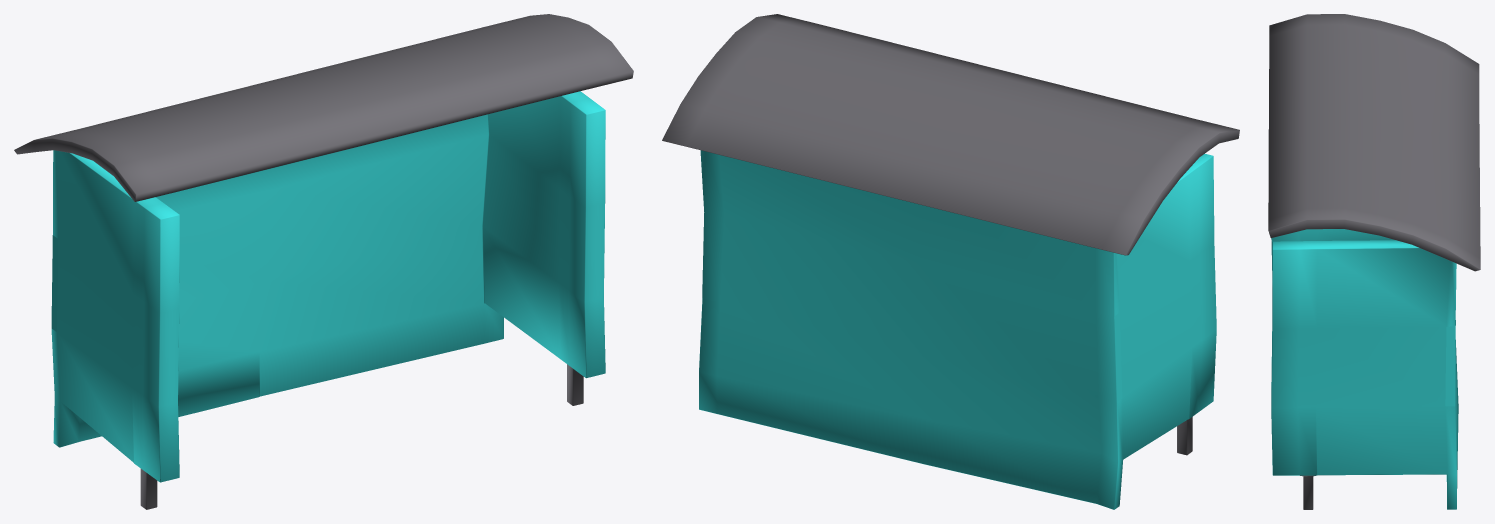
File: trampstop.fbx
3 renders of one model, left to right at view 1: azimuth 30°, elevation 25°; view 2: azimuth 150°, elevation 25°; view 3: azimuth 270°, elevation 25°, orthographic. The views are drawn at different scales.
Visible parts, largest first — view 1: Stop; view 2: Stop; view 3: Stop.
Boxes of the visible parts, x1,y1,x2,y2 form: Stop: (14, 14, 633, 509); Stop: (662, 14, 1239, 509); Stop: (1268, 14, 1480, 509).
Bounding box in the file's own units: 2191 × 1490 × 943.
